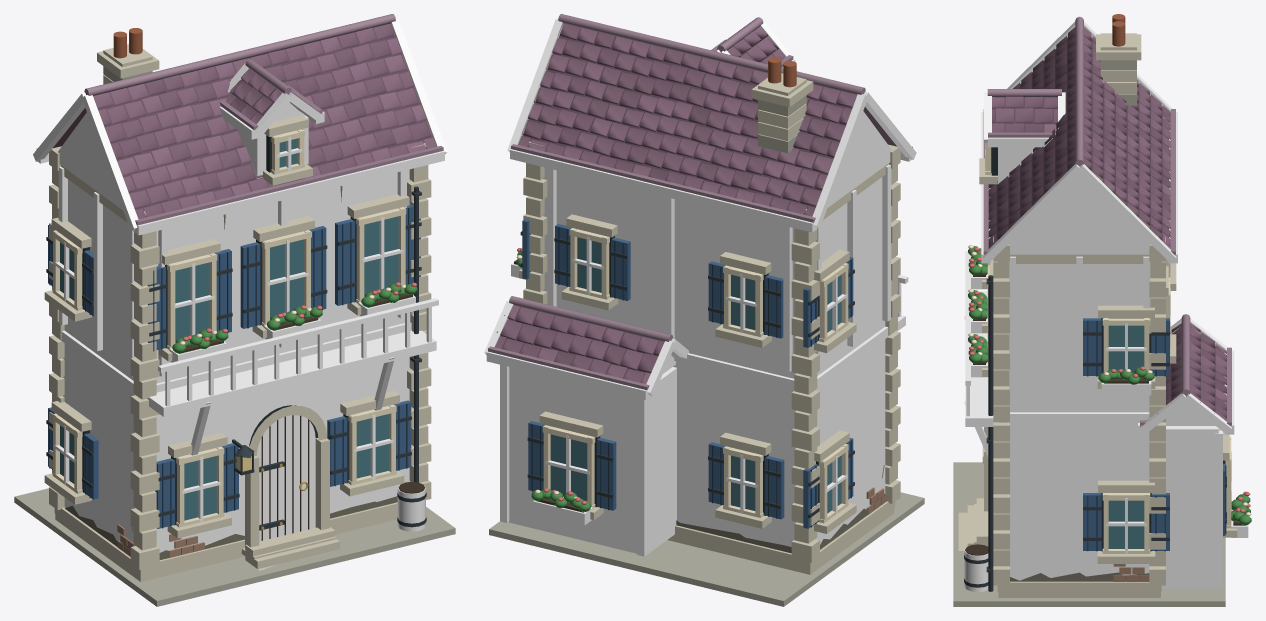
File: inn.glb
3 renders of one model, left to right at view 1: azimuth 30°, elevation 25°; view 2: azimuth 150°, elevation 25°; view 3: azimuth 270°, elevation 25°, orthographic. The views are drawn at different scales.
Visible parts, largest first — view 1: SourceMesh_00005, SourceMesh_00097, SourceMesh_00000, SourceMesh_00567, SourceMesh_00088, SourceMesh_00150, SourceMesh_00089, SourceMesh_00084, SourceMesh_00006, SourceMesh_00091, SourceMesh_00581, SourceMesh_00090 (+49 smaller); view 2: SourceMesh_00005, SourceMesh_00097, SourceMesh_00641, SourceMesh_00000, SourceMesh_00654, SourceMesh_00085, SourceMesh_00086, SourceMesh_00091, SourceMesh_00006, SourceMesh_00084, SourceMesh_00087, SourceMesh_00668 (+40 smaller); view 3: SourceMesh_00005, SourceMesh_00097, SourceMesh_00641, SourceMesh_00094, SourceMesh_00000, SourceMesh_00654, SourceMesh_00085, SourceMesh_00143, SourceMesh_00637, SourceMesh_00006, SourceMesh_00088, SourceMesh_00084 (+34 smaller).
Boxes of the visible parts, box(x1,y1,x2,y2) form: SourceMesh_00005: box(62, 169, 411, 552); SourceMesh_00097: box(93, 23, 436, 219); SourceMesh_00000: box(14, 488, 455, 606); SourceMesh_00567: box(147, 330, 436, 416); SourceMesh_00088: box(94, 24, 432, 217); SourceMesh_00150: box(257, 415, 315, 541); SourceMesh_00089: box(133, 151, 444, 235); SourceMesh_00084: box(55, 322, 411, 398); SourceMesh_00006: box(54, 502, 397, 575); SourceMesh_00091: box(58, 112, 122, 209); SourceMesh_00581: box(158, 298, 438, 372); SourceMesh_00090: box(135, 146, 443, 225); SourceMesh_00005: box(543, 167, 886, 546); SourceMesh_00097: box(518, 23, 857, 216); SourceMesh_00641: box(508, 367, 676, 554); SourceMesh_00000: box(489, 492, 924, 606); SourceMesh_00654: box(495, 305, 664, 384); SourceMesh_00085: box(522, 24, 855, 214); SourceMesh_00086: box(510, 149, 817, 232); SourceMesh_00091: box(827, 111, 891, 207); SourceMesh_00006: box(674, 501, 895, 568); SourceMesh_00084: box(671, 326, 893, 393); SourceMesh_00087: box(511, 144, 815, 222); SourceMesh_00668: box(637, 398, 648, 556); SourceMesh_00005: box(1010, 264, 1149, 580); SourceMesh_00097: box(988, 27, 1170, 248); SourceMesh_00641: box(1161, 426, 1218, 588); SourceMesh_00094: box(1008, 173, 1150, 254); SourceMesh_00000: box(953, 462, 1225, 606); SourceMesh_00654: box(1145, 323, 1226, 421); SourceMesh_00085: box(1084, 35, 1168, 240); SourceMesh_00143: box(992, 96, 1057, 132); SourceMesh_00637: box(988, 275, 993, 591); SourceMesh_00006: box(997, 581, 1161, 591); SourceMesh_00088: box(990, 35, 1075, 240); SourceMesh_00084: box(998, 412, 1160, 422).
Size of the model in its own units: 6.32 by 9.22 by 5.25.
